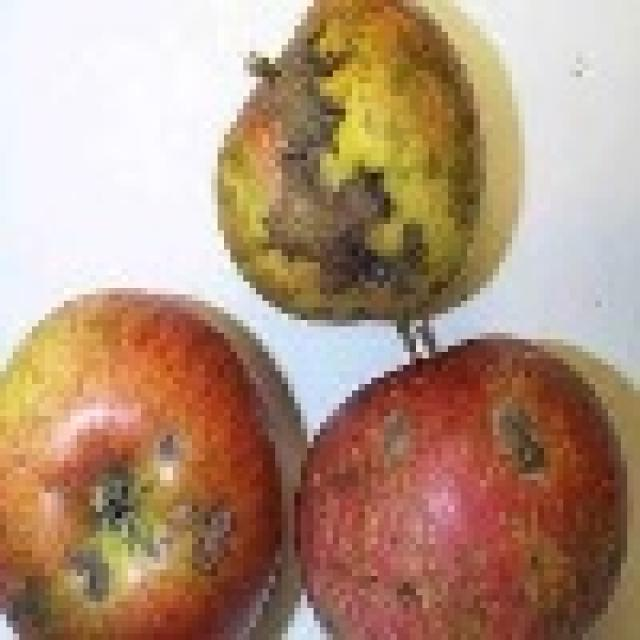Apple: (288, 332, 627, 634), (8, 284, 280, 640), (217, 0, 518, 320)
